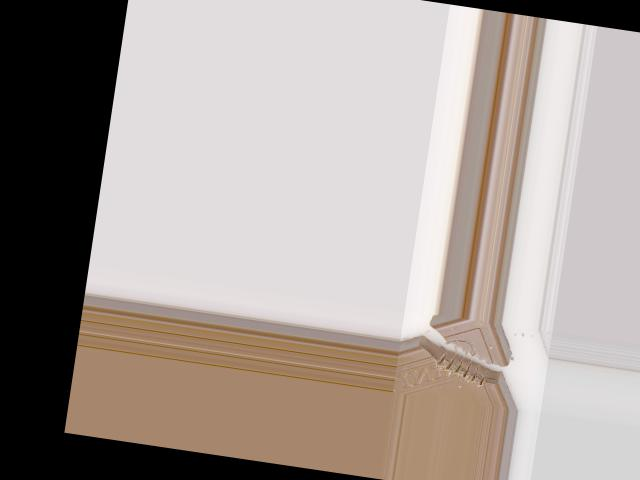chocolate: (393, 309, 531, 409)
